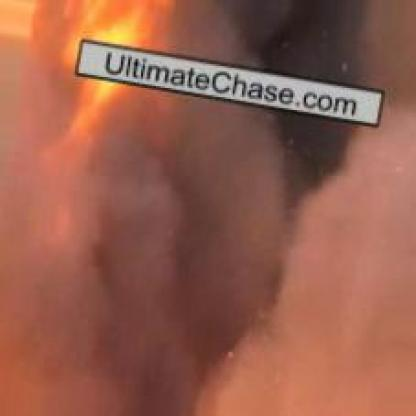smoke: (13, 117, 387, 397)
